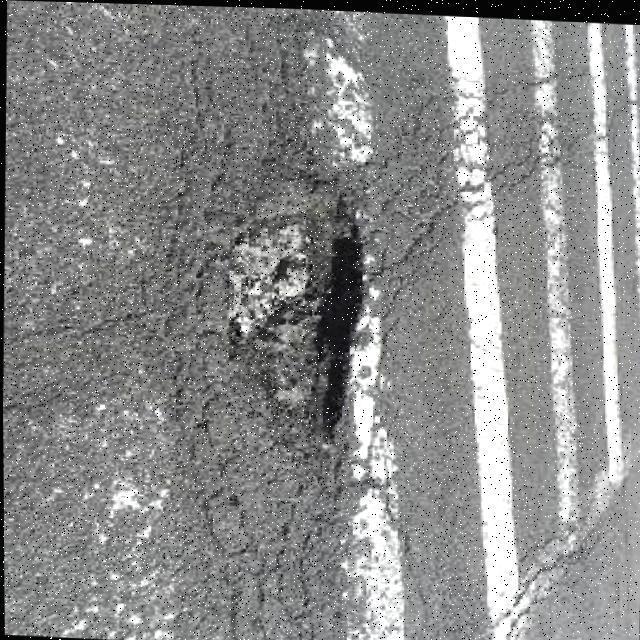pothole: (206, 192, 370, 448)
